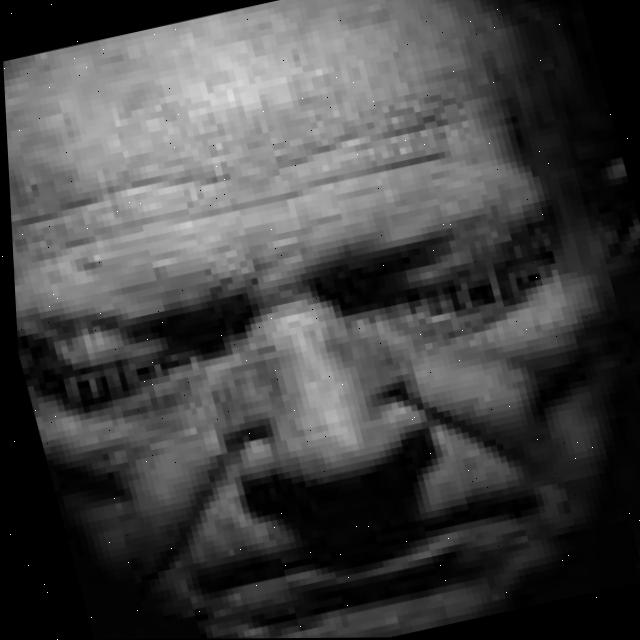Melasma: (0, 0, 436, 232), (216, 314, 377, 418)
